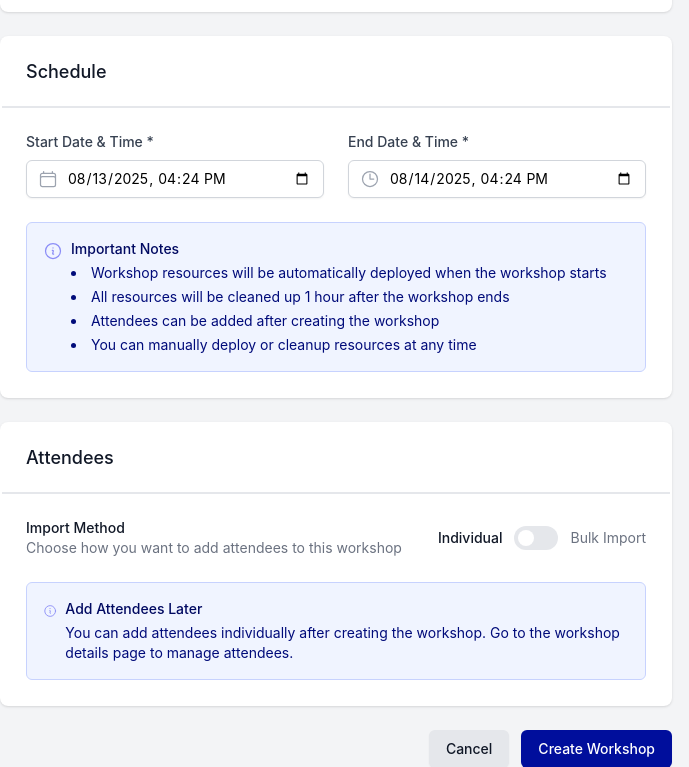
CreateWorkshop - Bulk Import › should clear CSV data when switching back to individual mode
The image size is (689, 767).
(page scrolled)
Click the button with class "inline-flex": (536, 538) [514, 526, 558, 550]
(page scrolled)
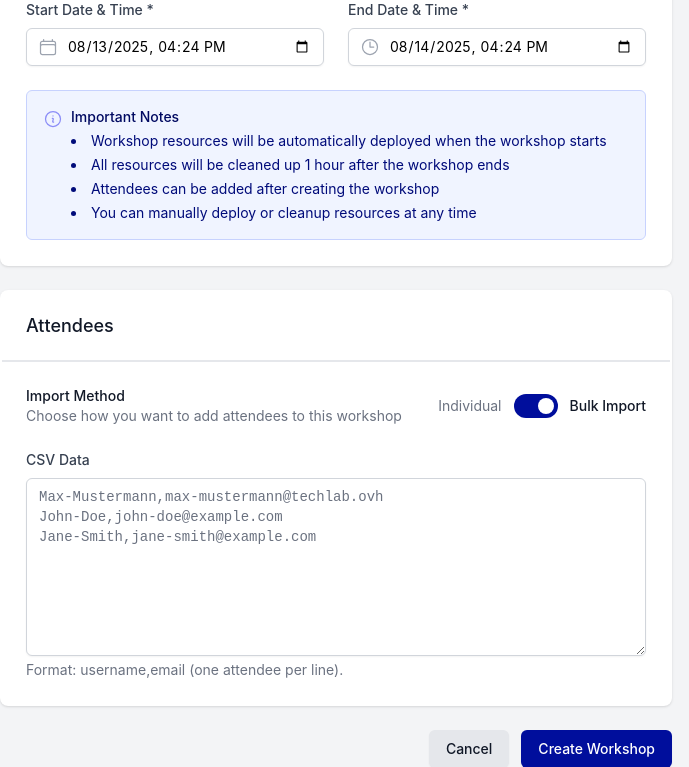
Replace the text in the text box labelled "CSV Data" with "john-doe,john@example.com": (336, 567) [26, 478, 646, 656]
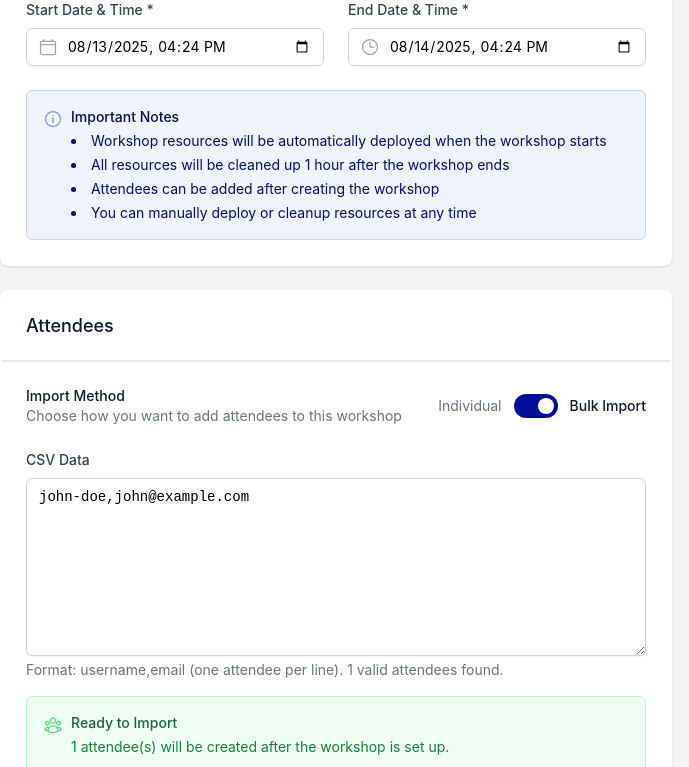
Note: Switch back to individual
Click the button with class "inline-flex": (536, 406) [514, 394, 558, 418]
(page scrolled)
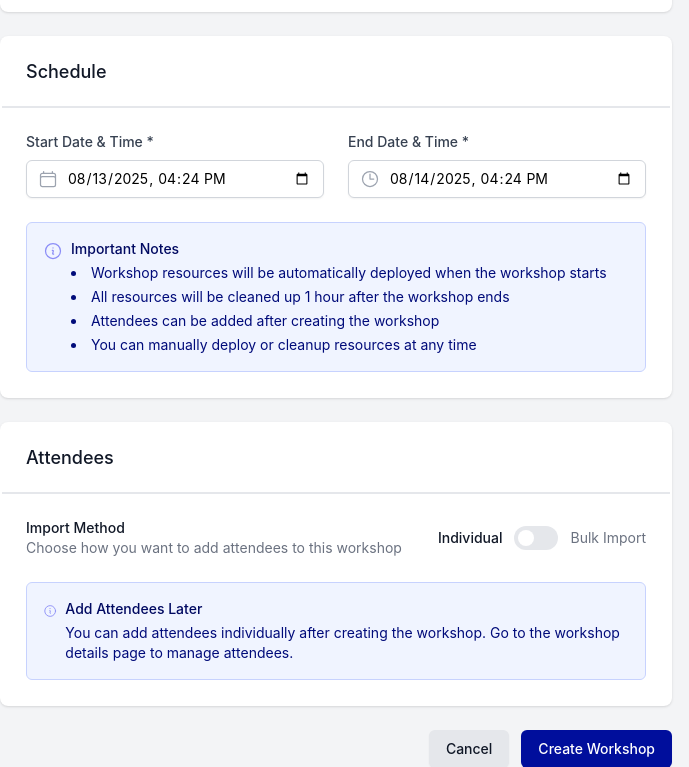
Expected: the label labelled "CSV Data" is gone
Expected: the heading "Add Attendees Later" is shown, [65, 600, 202, 617]
